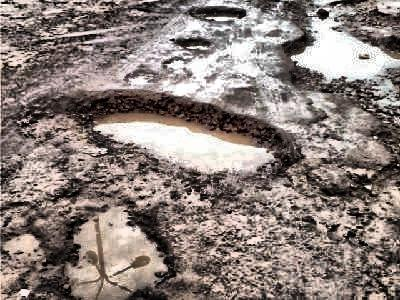pothole: (82, 86, 297, 177), (278, 0, 399, 160), (60, 200, 178, 299), (338, 162, 399, 192), (189, 4, 246, 24), (1, 230, 43, 254), (123, 69, 159, 86), (162, 56, 190, 75), (175, 37, 211, 51)
